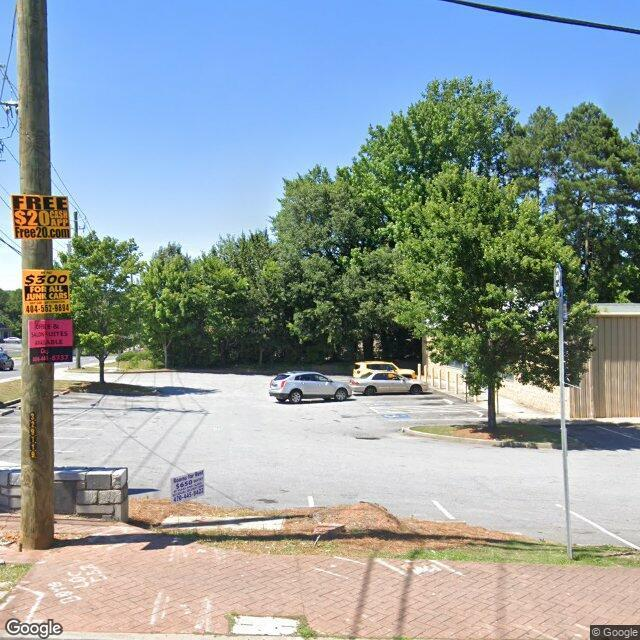seating: (228, 616, 302, 640)
